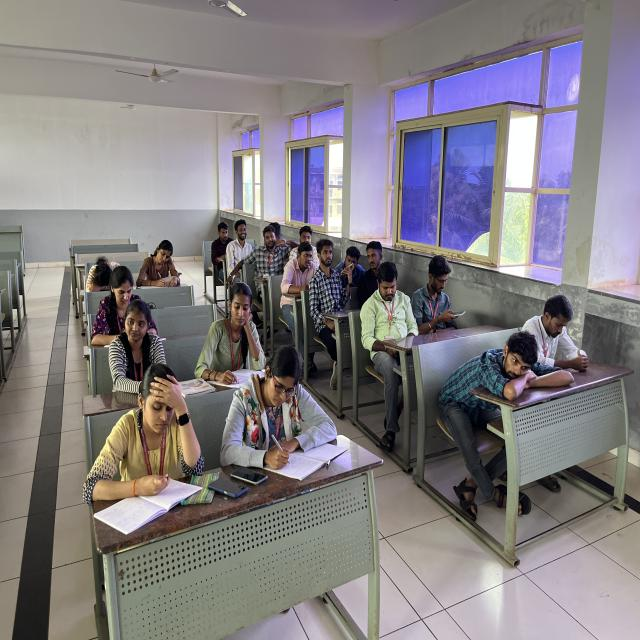Reading: (84, 360, 203, 500), (199, 276, 279, 385)
Sleeping: (71, 230, 139, 301)
Using Phone: (412, 248, 472, 324), (310, 234, 359, 327), (369, 256, 415, 354)
Writing: (226, 340, 336, 465), (132, 218, 198, 307)
